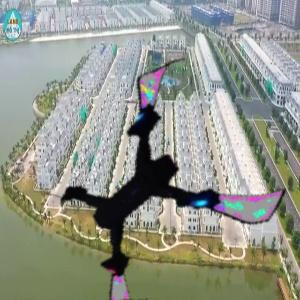drone: (48, 68, 266, 286)
